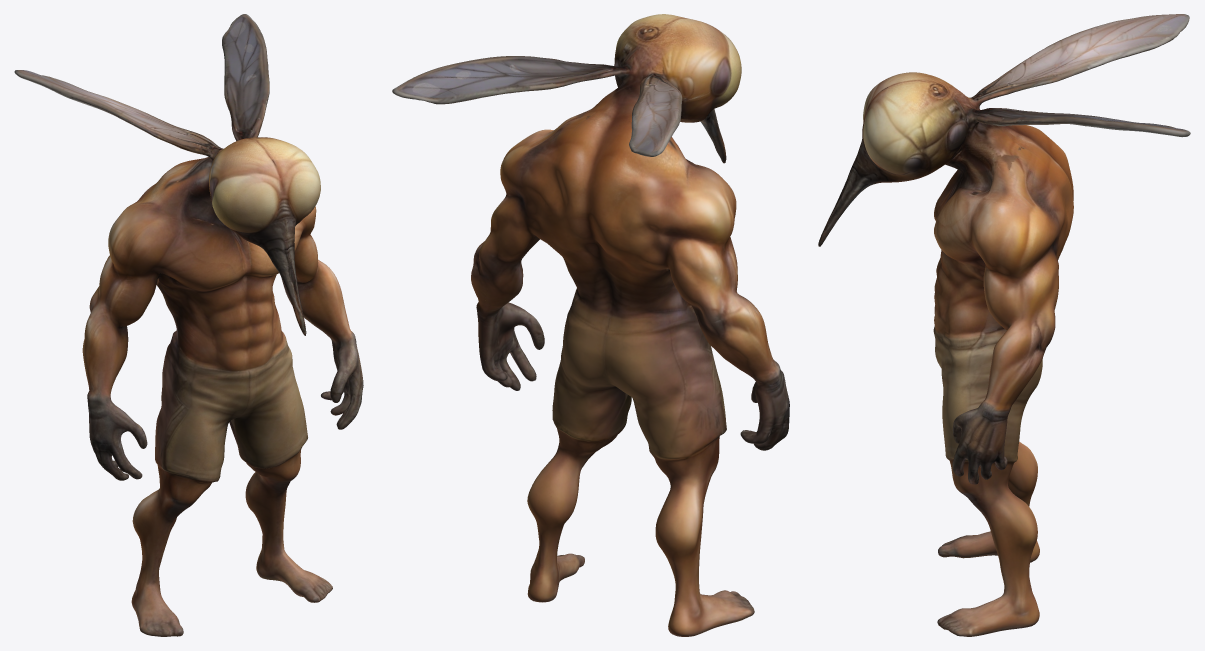
Rendered from humanoid_fly.glb.
3 renders of one model, left to right at view 1: azimuth 30°, elevation 25°; view 2: azimuth 150°, elevation 25°; view 3: azimuth 270°, elevation 25°, orthographic. The views are drawn at different scales.
Visible parts, largest first — view 1: Object_4; view 2: Object_4; view 3: Object_4.
Boxes of the visible parts, left/top/right/bottom form: Object_4: left=14, top=14, right=363, bottom=636; Object_4: left=392, top=14, right=789, bottom=636; Object_4: left=818, top=14, right=1190, bottom=636.
Bounding box in the file's own units: 1.12 × 2 × 1.3.
Materials: 1 (1 with a texture image).
